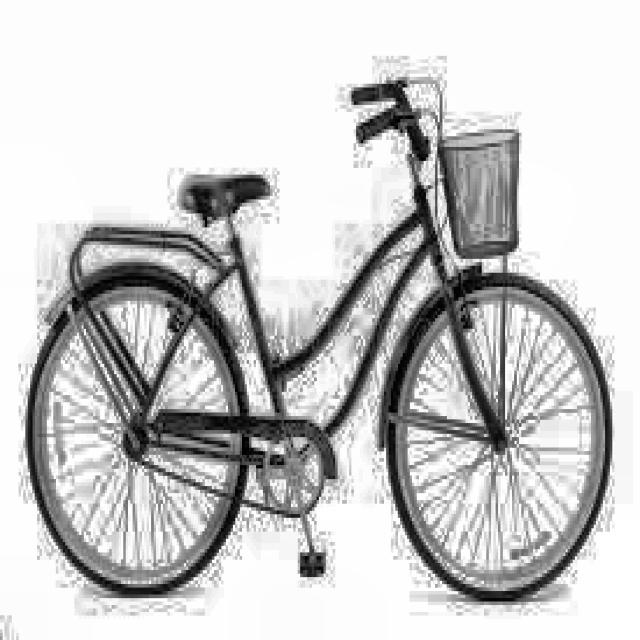bicycle: (24, 66, 616, 603)
